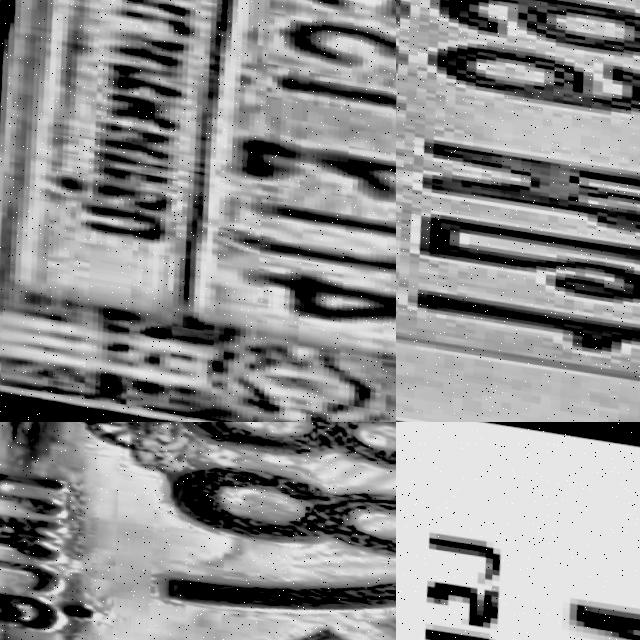license-plate: (0, 0, 396, 422), (396, 0, 640, 422), (0, 422, 396, 640), (396, 422, 640, 640)
